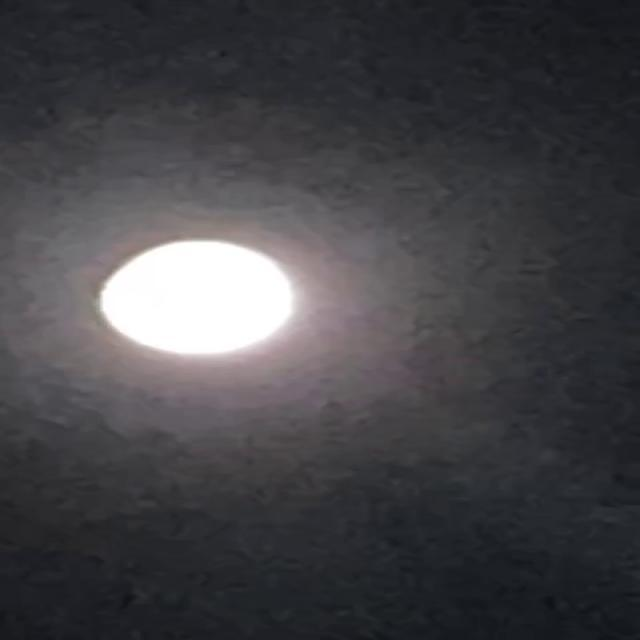moon: (81, 217, 312, 361)
